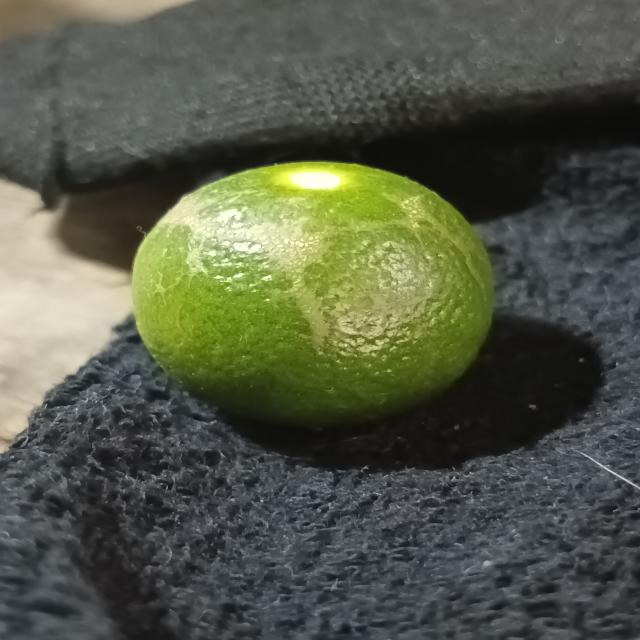thrips: (129, 161, 497, 424)
